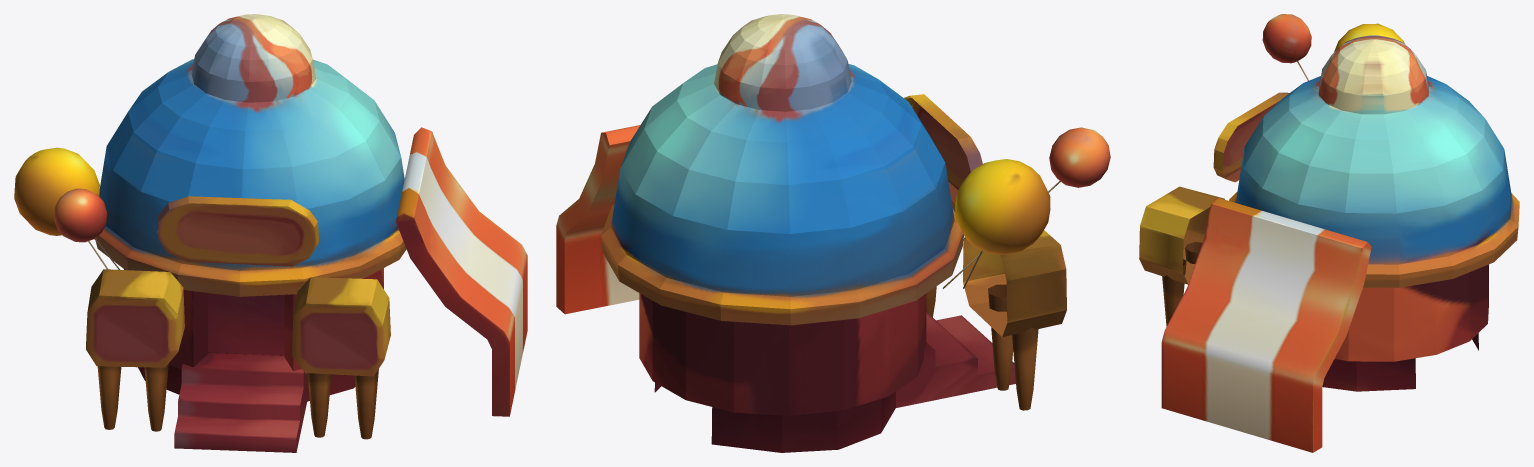
File: stage_carnival_4.fbx
3 renders of one model, left to right at view 1: azimuth 30°, elevation 25°; view 2: azimuth 150°, elevation 25°; view 3: azimuth 270°, elevation 25°, orthographic. The views are drawn at different scales.
Parts seen in each view (by area): view 1: 3, 2, 1; view 2: 3, 2, 1; view 3: 2, 3, 1.
Part boxes in pixels (x1,y1,x2,y2): 3: [14, 14, 406, 296]; 2: [86, 127, 527, 439]; 1: [138, 352, 355, 452]; 3: [601, 14, 1110, 325]; 2: [556, 125, 1066, 415]; 1: [654, 312, 1015, 452]; 2: [1139, 186, 1488, 452]; 3: [1213, 14, 1519, 287]; 1: [1322, 333, 1478, 391].
Bounding box in the file's own units: 260 × 177 × 197.
